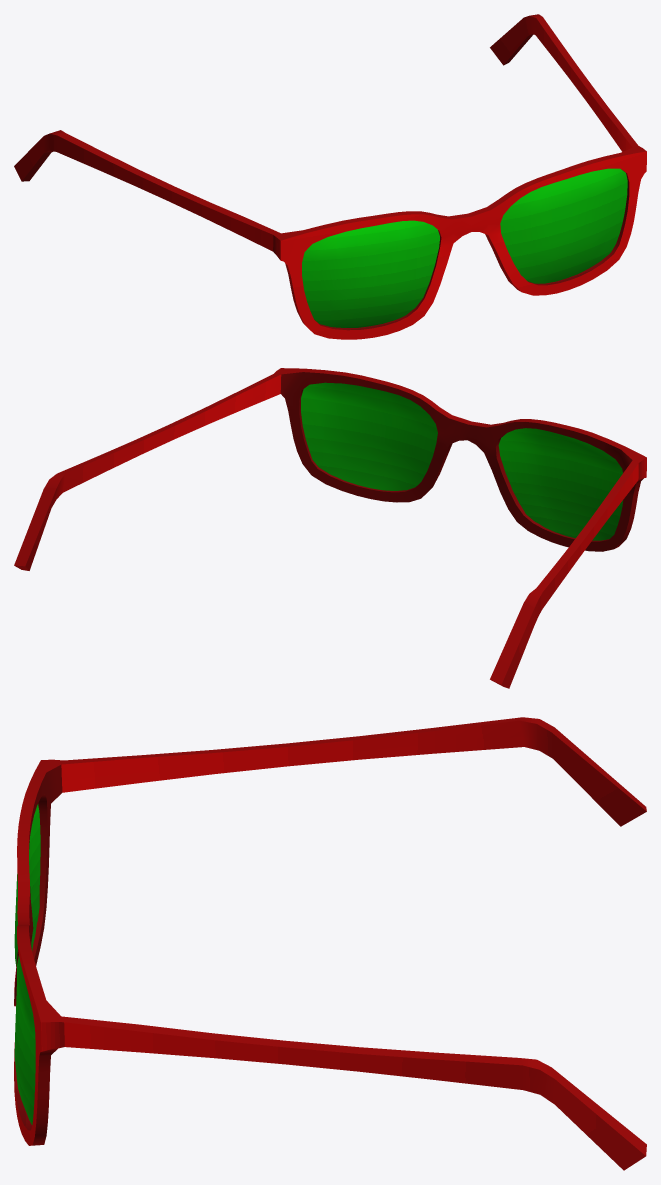
Rendered from Outfit_Face_ShadedGlasses.fbx.
3 views of the same model, one above another, from view 1: azimuth 30°, elevation 25°; view 2: azimuth 150°, elevation 25°; view 3: azimuth 270°, elevation 25° (orthographic). The views are drawn at different scales.
Visible parts, largest first — view 1: BSMC_Outfit_Face_ShadedGlasses; view 2: BSMC_Outfit_Face_ShadedGlasses; view 3: BSMC_Outfit_Face_ShadedGlasses.
Part boxes in pixels (x1=…): BSMC_Outfit_Face_ShadedGlasses: x1=14, y1=14, x2=646, y2=339; BSMC_Outfit_Face_ShadedGlasses: x1=14, y1=368, x2=646, y2=688; BSMC_Outfit_Face_ShadedGlasses: x1=14, y1=717, x2=646, y2=1170.
Size of the model in its own units: 19.37 by 4.48 by 14.74.
